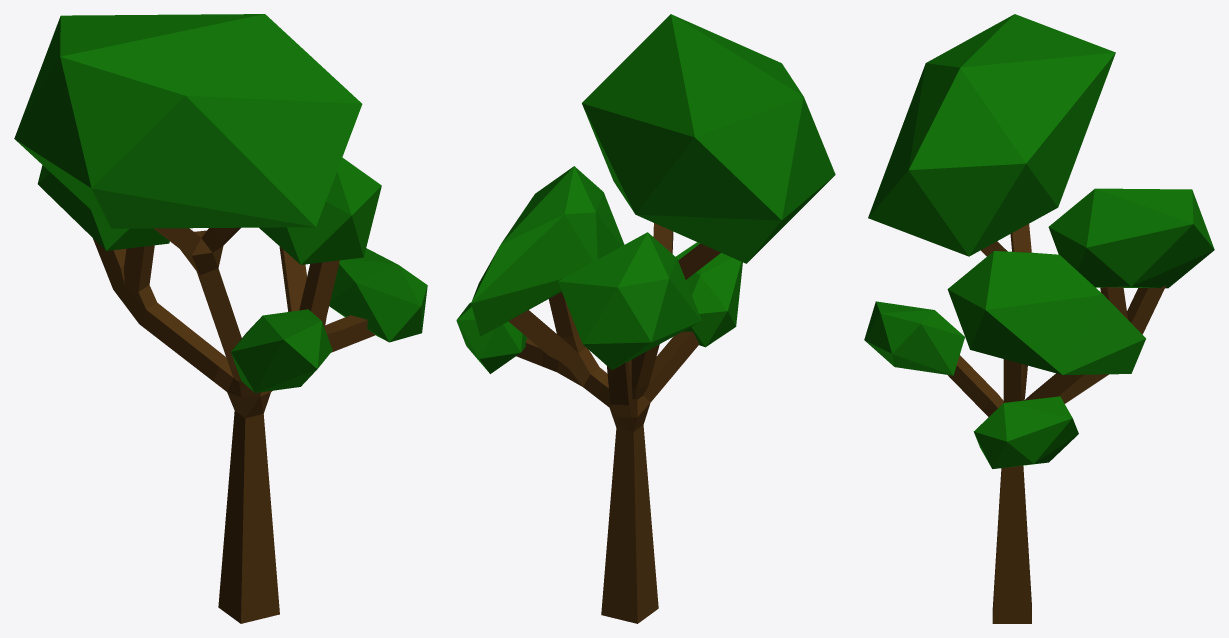
Rendered from Arbol 2.glb.
3 renders of one model, left to right at view 1: azimuth 30°, elevation 25°; view 2: azimuth 150°, elevation 25°; view 3: azimuth 270°, elevation 25°, orthographic. The views are drawn at different scales.
Visible parts, largest first — view 1: Plane; view 2: Plane; view 3: Plane.
Boxes of the visible parts, x1=… form: Plane: x1=14, y1=14, x2=427, y2=623; Plane: x1=456, y1=14, x2=835, y2=623; Plane: x1=864, y1=14, x2=1214, y2=623.
Size of the model in its own units: 1.8 by 2.86 by 1.68.
